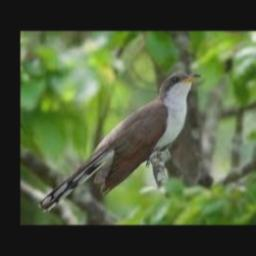Cuckoo: (38, 72, 201, 213)
